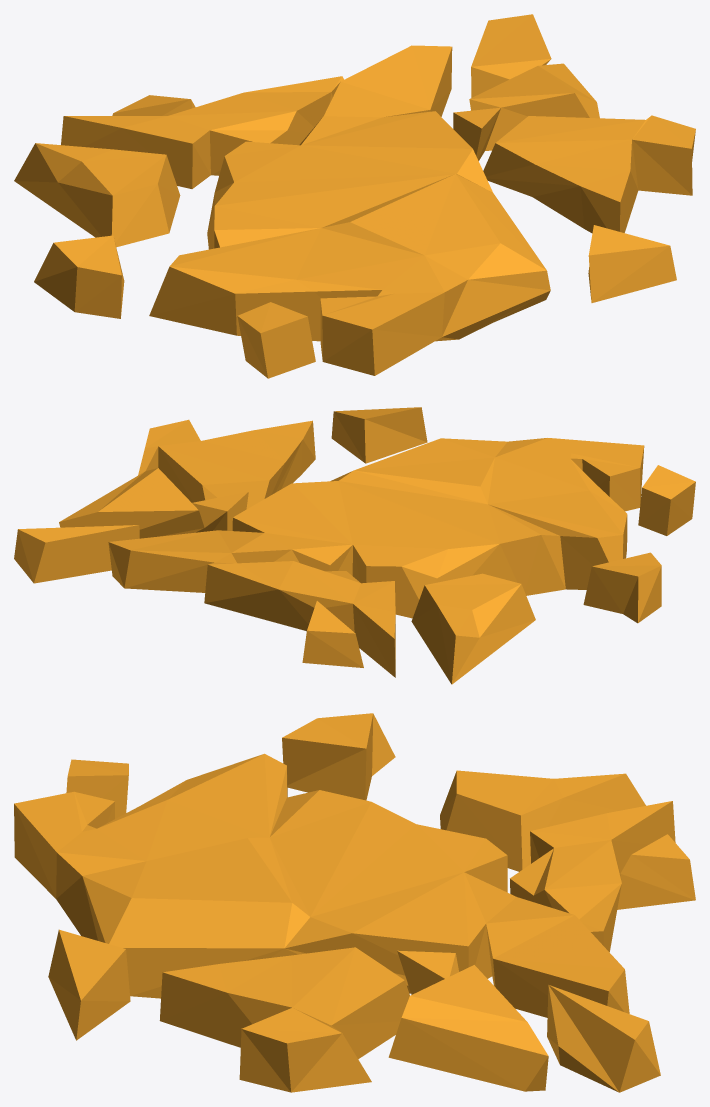
The model's file is SM_Iceberg_Shards_Central_B_Plane.fbx.
3 renders of one model, top to bottom at view 1: azimuth 30°, elevation 25°; view 2: azimuth 150°, elevation 25°; view 3: azimuth 270°, elevation 25°, orthographic. The views are drawn at different scales.
Parts seen in each view (by area): view 1: iceberg-shards-central-b-plane; view 2: iceberg-shards-central-b-plane; view 3: iceberg-shards-central-b-plane.
Boxes of the visible parts, <box> form: iceberg-shards-central-b-plane: <box>14,14,695,378</box>; iceberg-shards-central-b-plane: <box>14,407,695,684</box>; iceberg-shards-central-b-plane: <box>14,713,695,1092</box>.
Size of the model in its own units: 4.91 by 0.7518 by 4.25.
